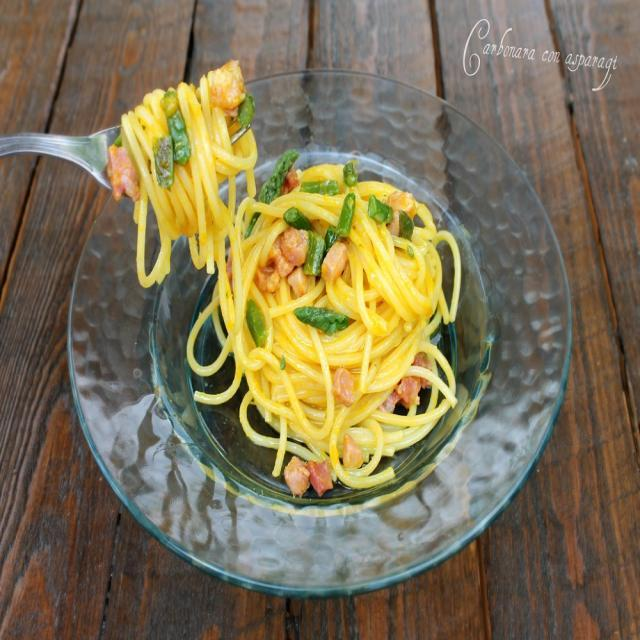Pasta with carbonara sauce: (76, 91, 514, 547)
